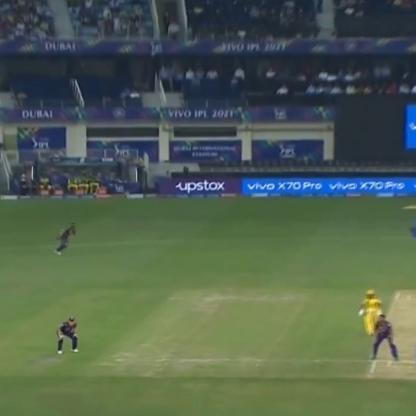pitch: (371, 283, 414, 382)
